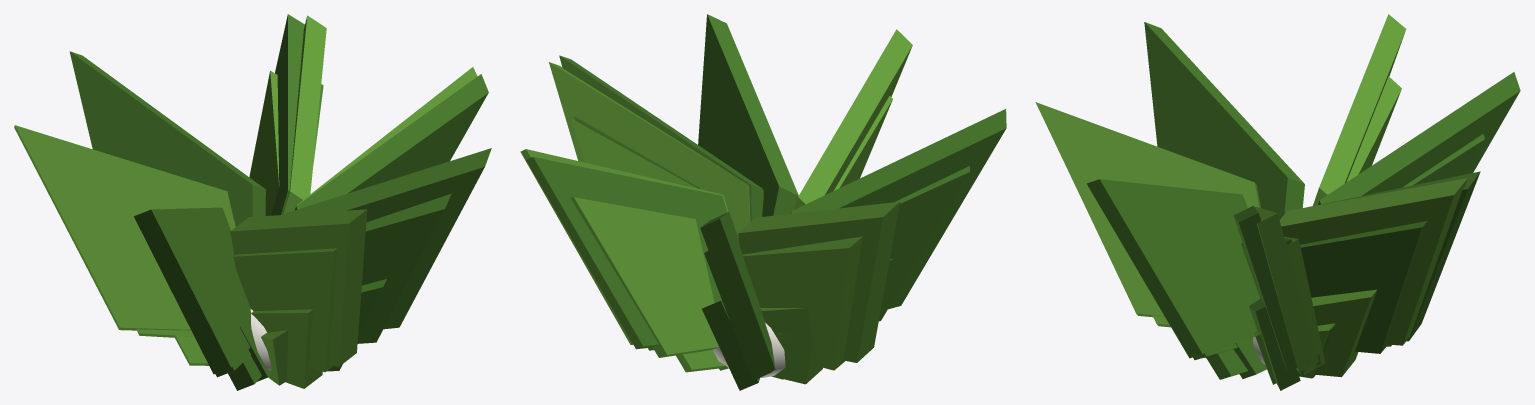
Rendered from Crop_Veg_Radish.fbx.
The picture shows the model from 3 angles, left to right: view 1: azimuth 30°, elevation 25°; view 2: azimuth 150°, elevation 25°; view 3: azimuth 270°, elevation 25°; orthographic projection.
Visible parts, largest first — view 1: Crop_Veg_Radish__S4, Crop_Veg_Radish__S3, Crop_Veg_Radish__S2, Crop_Veg_Radish__S5; view 2: Crop_Veg_Radish__S4, Crop_Veg_Radish__S3, Crop_Veg_Radish__S2; view 3: Crop_Veg_Radish__S4, Crop_Veg_Radish__S3, Crop_Veg_Radish__S2, Crop_Veg_Radish__S5.
Boxes of the visible parts, x1,y1,x2,y2 form: Crop_Veg_Radish__S4: (14,14,491,374); Crop_Veg_Radish__S3: (136,70,451,377); Crop_Veg_Radish__S2: (175,279,386,390); Crop_Veg_Radish__S5: (240,324,288,385); Crop_Veg_Radish__S4: (520,14,1006,378); Crop_Veg_Radish__S3: (571,96,969,380); Crop_Veg_Radish__S2: (676,259,892,390); Crop_Veg_Radish__S4: (1035,14,1520,372); Crop_Veg_Radish__S3: (1152,76,1484,374); Crop_Veg_Radish__S2: (1204,289,1376,390); Crop_Veg_Radish__S5: (1233,323,1335,384).
Size of the model in its own units: 0.16 by 0.0961 by 0.1647.
